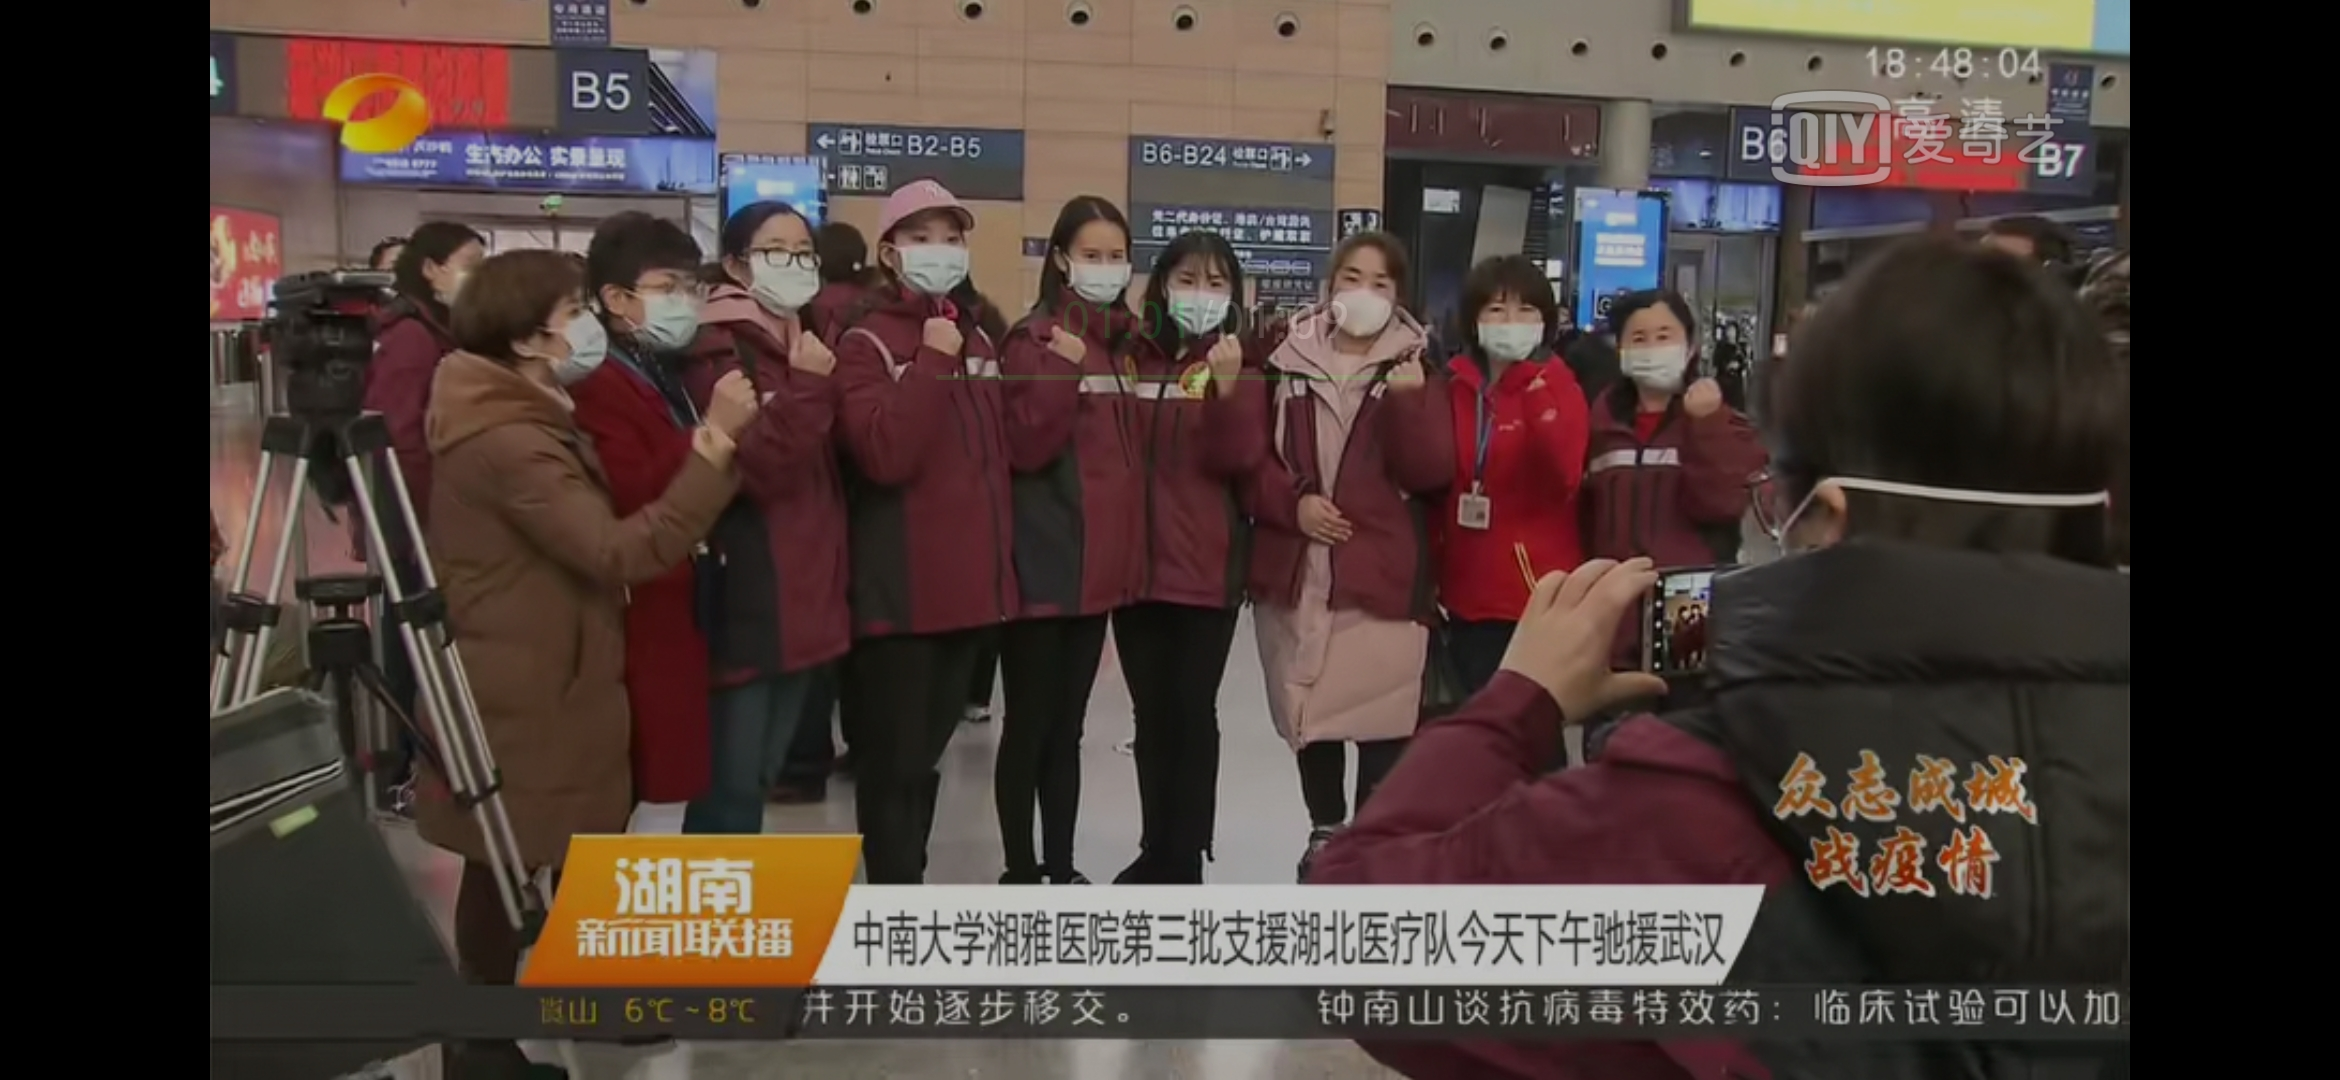correctlyWear: (516, 291, 610, 395), (616, 260, 706, 367), (739, 231, 830, 328), (883, 215, 975, 303), (1054, 228, 1136, 313), (1325, 261, 1398, 349), (1619, 312, 1692, 400), (1164, 260, 1233, 348), (1477, 295, 1549, 367), (434, 246, 481, 306)
